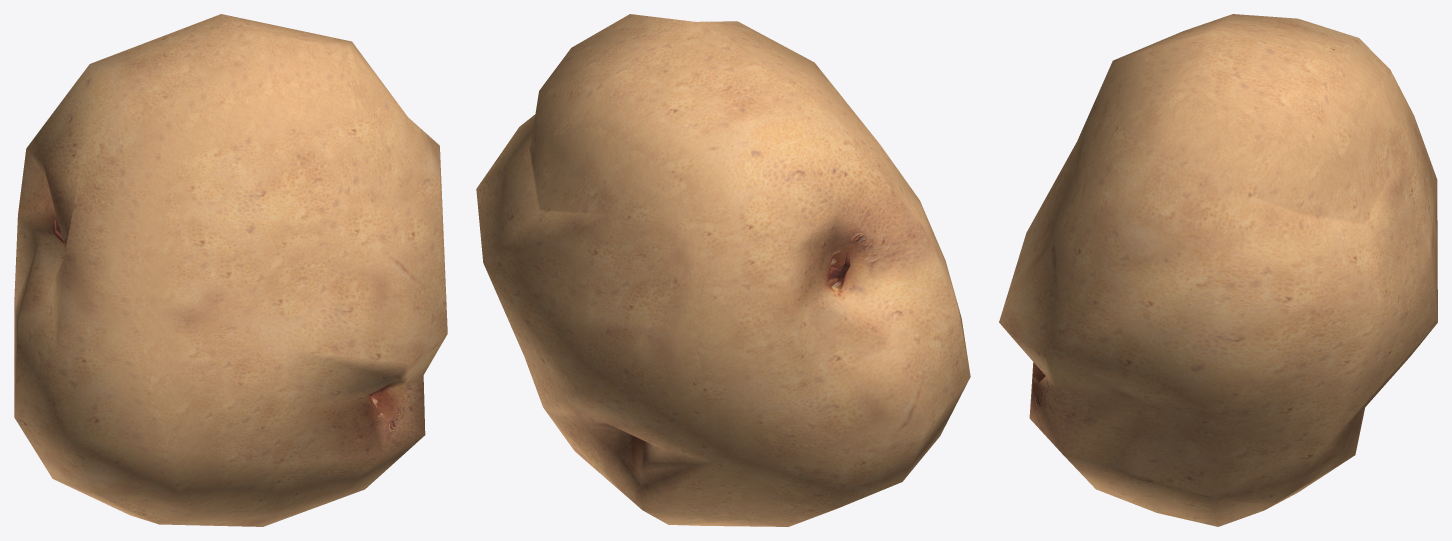
Rendered from Potato.obj.
3 renders of one model, left to right at view 1: azimuth 30°, elevation 25°; view 2: azimuth 150°, elevation 25°; view 3: azimuth 270°, elevation 25°, orthographic. The views are drawn at different scales.
Visible parts, largest first — view 1: Potato_09; view 2: Potato_09; view 3: Potato_09.
Part boxes in pixels (x1=…): Potato_09: x1=14, y1=14, x2=447, y2=526; Potato_09: x1=476, y1=14, x2=970, y2=526; Potato_09: x1=999, y1=14, x2=1437, y2=526.
Bounding box in the file's own units: 2 × 2.2 × 1.8.
1 material, 1 textured.
